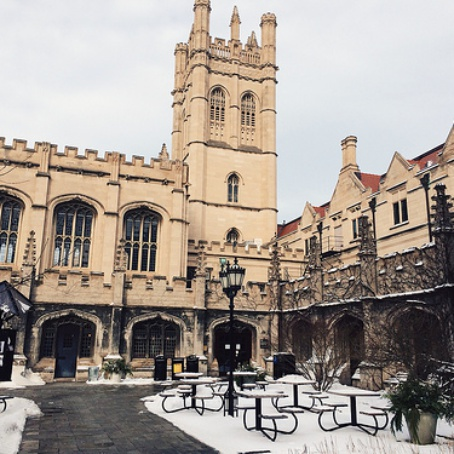building: (1, 11, 279, 376), (290, 147, 454, 375)
door: (56, 324, 82, 376)
light pole: (212, 260, 245, 422)
sky: (282, 1, 453, 142), (1, 1, 171, 142)
